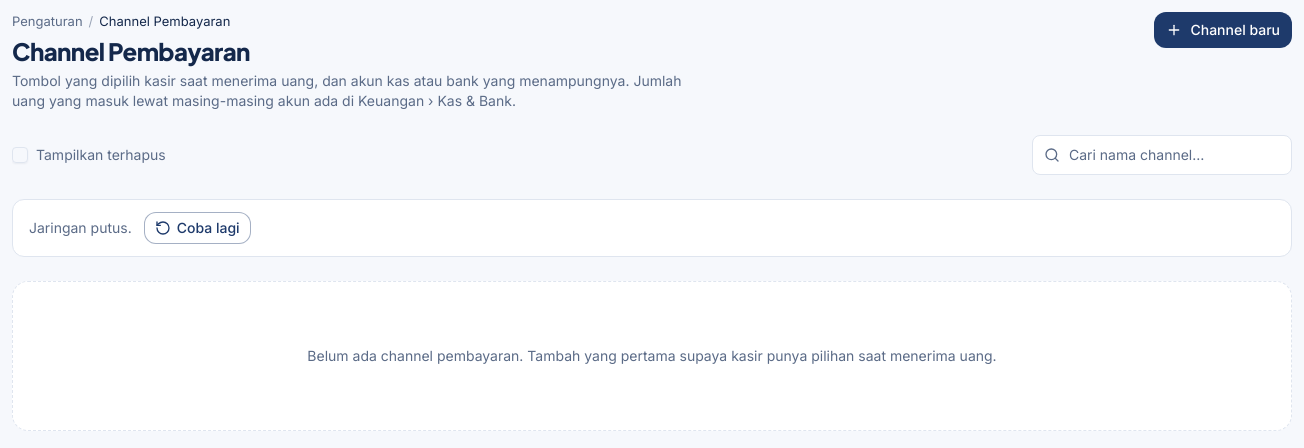
Test: Channel Pembayaran — failure and grants › offers a retry when the list fails, and recovers on it
Expected: the text "Jaringan putus." is shown, [29, 219, 132, 236]
Step 1. Click the button "Coba lagi" → (197, 228), box [144, 212, 251, 244]
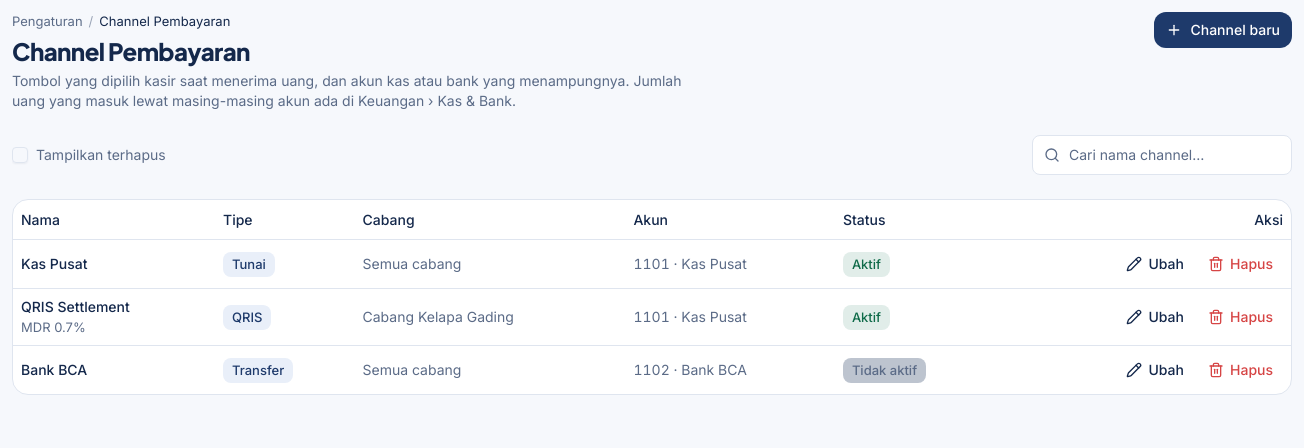
Result: the text "Kas Pusat" is shown at [21, 255, 88, 272]
Result: the text "Jaringan putus." is gone
